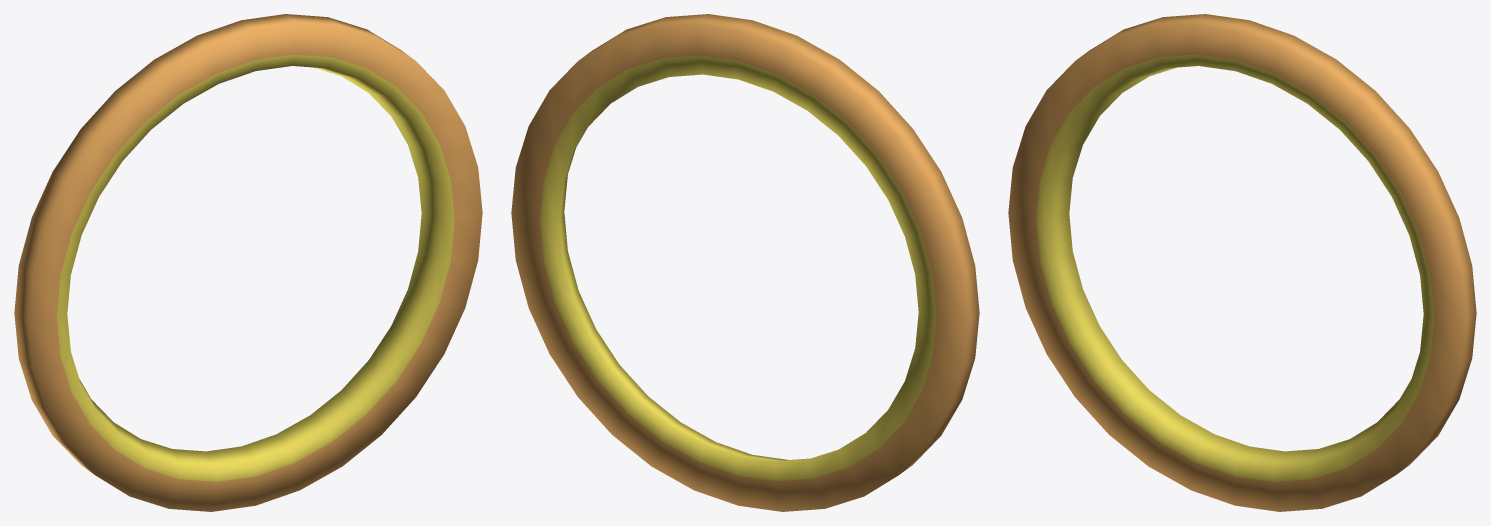
Rendered from titlerings_Kincho.fbx.
The picture shows the model from 3 angles, left to right: view 1: azimuth 30°, elevation 25°; view 2: azimuth 150°, elevation 25°; view 3: azimuth 330°, elevation 25°; orthographic projection.
Parts seen in each view (by area): view 1: KIncho; view 2: KIncho; view 3: KIncho.
Part boxes in pixels (box(x1,y1,x2,y2)): KIncho: box(14, 14, 482, 511); KIncho: box(511, 14, 979, 511); KIncho: box(1008, 14, 1476, 511).
Bounding box in the file's own units: 219 × 219 × 12.06.
